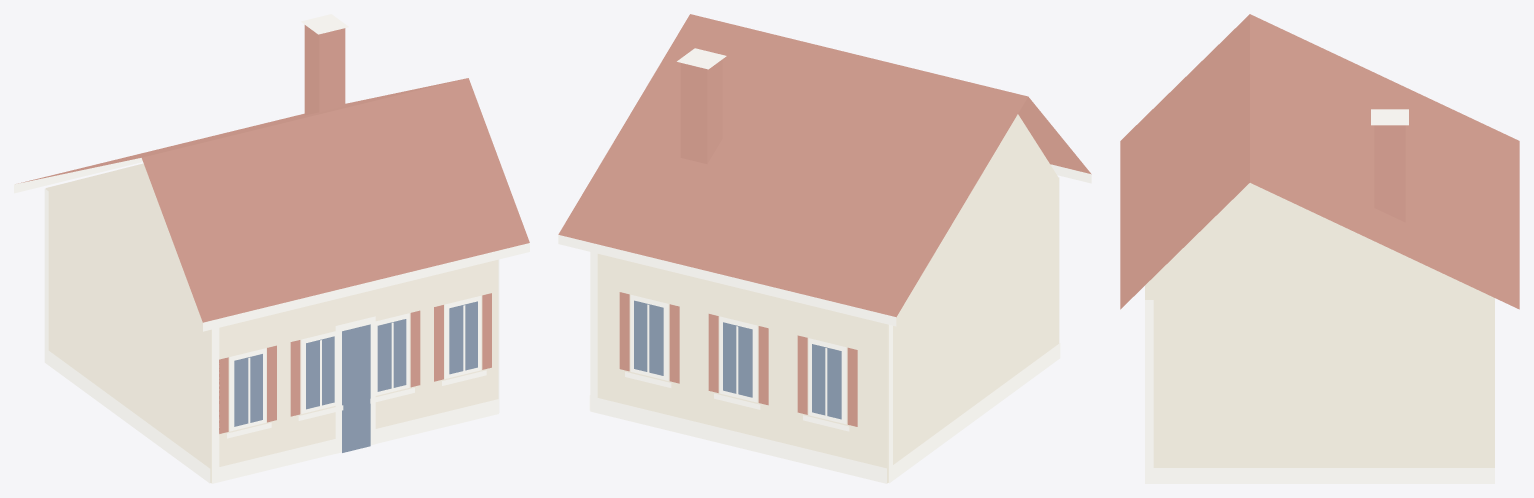
The model's file is Blender_House_Saltbox_1.glb.
The picture shows the model from 3 angles, left to right: view 1: azimuth 30°, elevation 25°; view 2: azimuth 150°, elevation 25°; view 3: azimuth 270°, elevation 25°; orthographic projection. The views are drawn at different scales.
Visible parts, largest first — view 1: Blender_House_Saltbox_1; view 2: Blender_House_Saltbox_1; view 3: Blender_House_Saltbox_1.
Part boxes in pixels (x1=…): Blender_House_Saltbox_1: x1=14, y1=14, x2=529, y2=483; Blender_House_Saltbox_1: x1=558, y1=14, x2=1091, y2=483; Blender_House_Saltbox_1: x1=1120, y1=14, x2=1519, y2=483.
Bounding box in the file's own units: 1.14 × 1.06 × 1.14.
